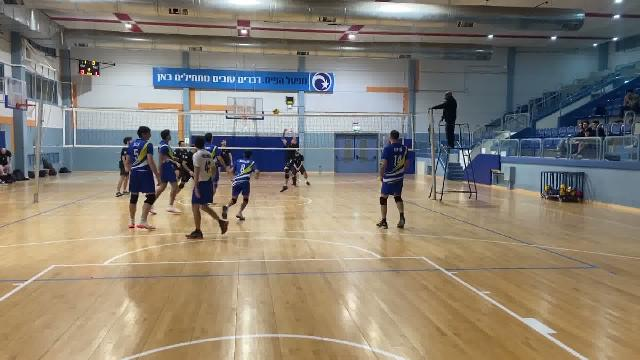ball: (271, 106, 280, 117)
